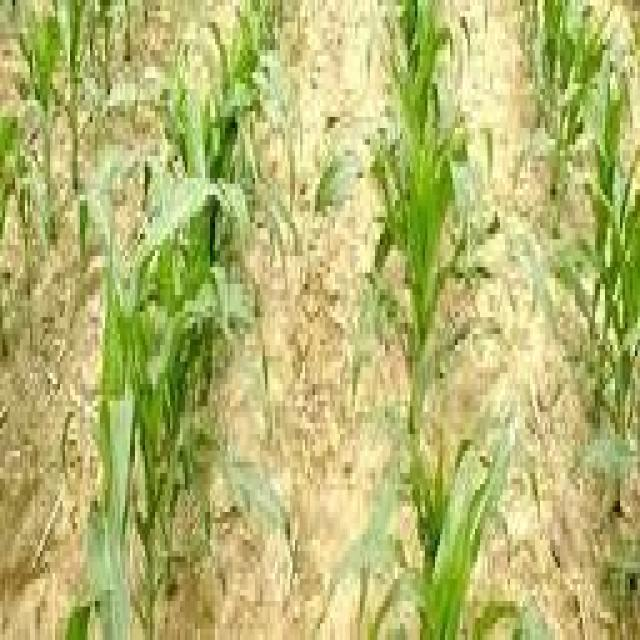row: (0, 0, 246, 638), (163, 0, 403, 640), (452, 0, 640, 640), (593, 0, 640, 202)
